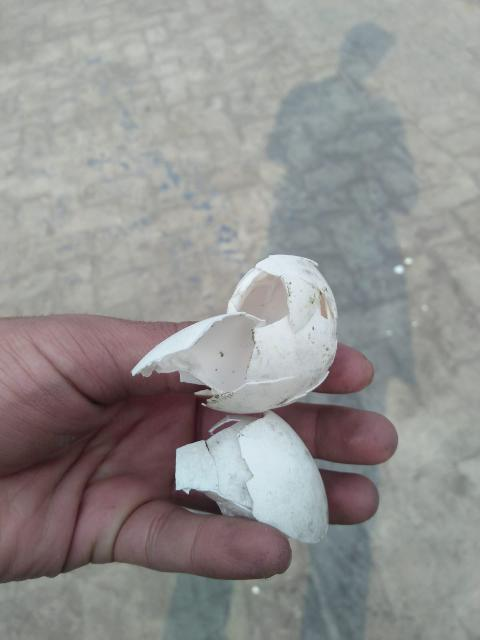Roto: (133, 253, 341, 410), (174, 409, 330, 544)
